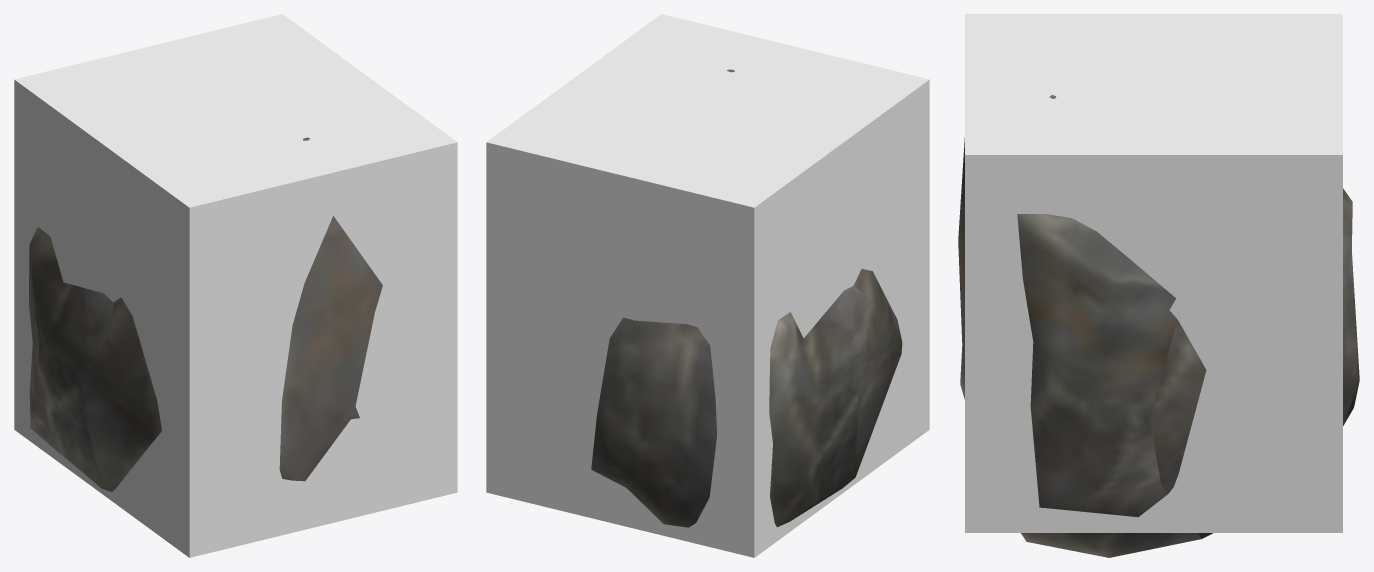
File: Stone_H.fbx
3 renders of one model, left to right at view 1: azimuth 30°, elevation 25°; view 2: azimuth 150°, elevation 25°; view 3: azimuth 270°, elevation 25°, orthographic. The views are drawn at different scales.
Parts seen in each view (by area): view 1: Cube__3_, Stone_Cliff_H__1_; view 2: Cube__3_, Stone_Cliff_H__1_; view 3: Cube__3_, Stone_Cliff_H__1_.
Part boxes in pixels (<box>): Cube__3_: <box>14,14,457,557</box>; Stone_Cliff_H__1_: <box>29,137,382,491</box>; Cube__3_: <box>486,14,929,557</box>; Stone_Cliff_H__1_: <box>591,69,902,527</box>; Cube__3_: <box>965,14,1342,532</box>; Stone_Cliff_H__1_: <box>958,95,1359,557</box>.
Bounding box in the file's own units: 0.303 × 0.3662 × 0.3161.
Materials: 2 (1 with a texture image).
